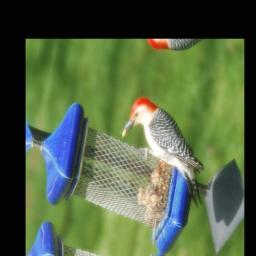Woodpecker: (109, 90, 220, 215)
